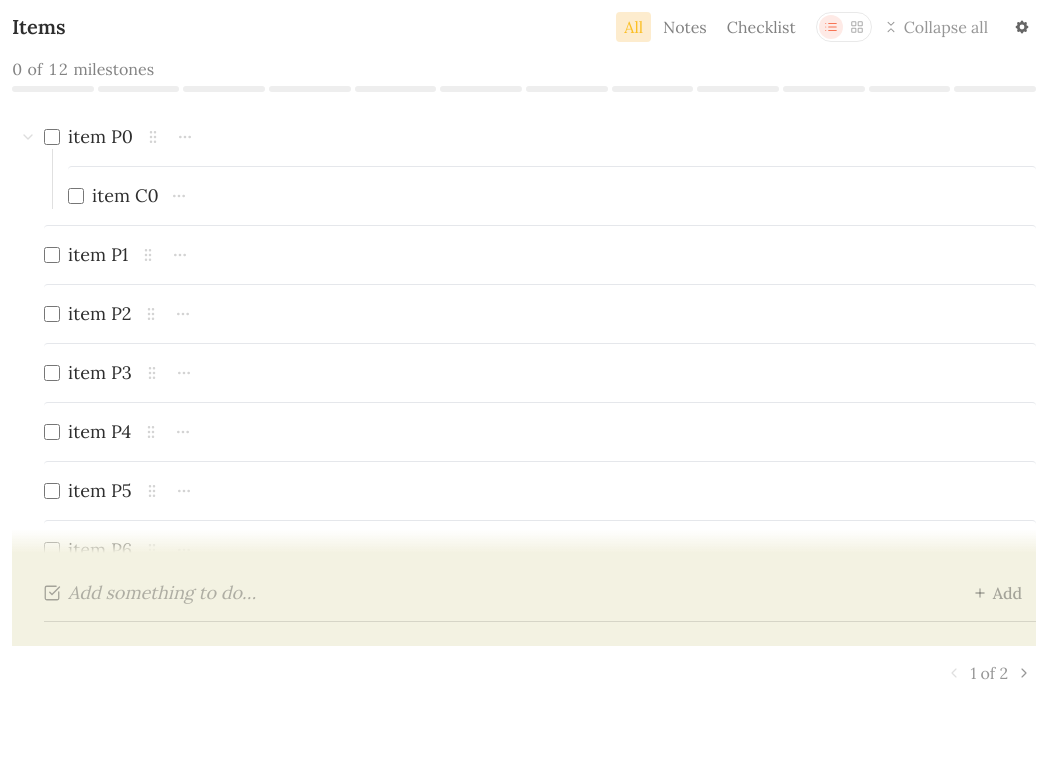
Todo collapse all across pages (FS-0008 R23–R24) › should label the toggle from the current page, not the whole list
expect the text "item P0" is shown: met, box [68,124,133,150]
What coordinates should you click on to do the following:
click the button named "Collapse item P0"
I would click on:
 (28, 137)
Its box is [12,121,44,153].
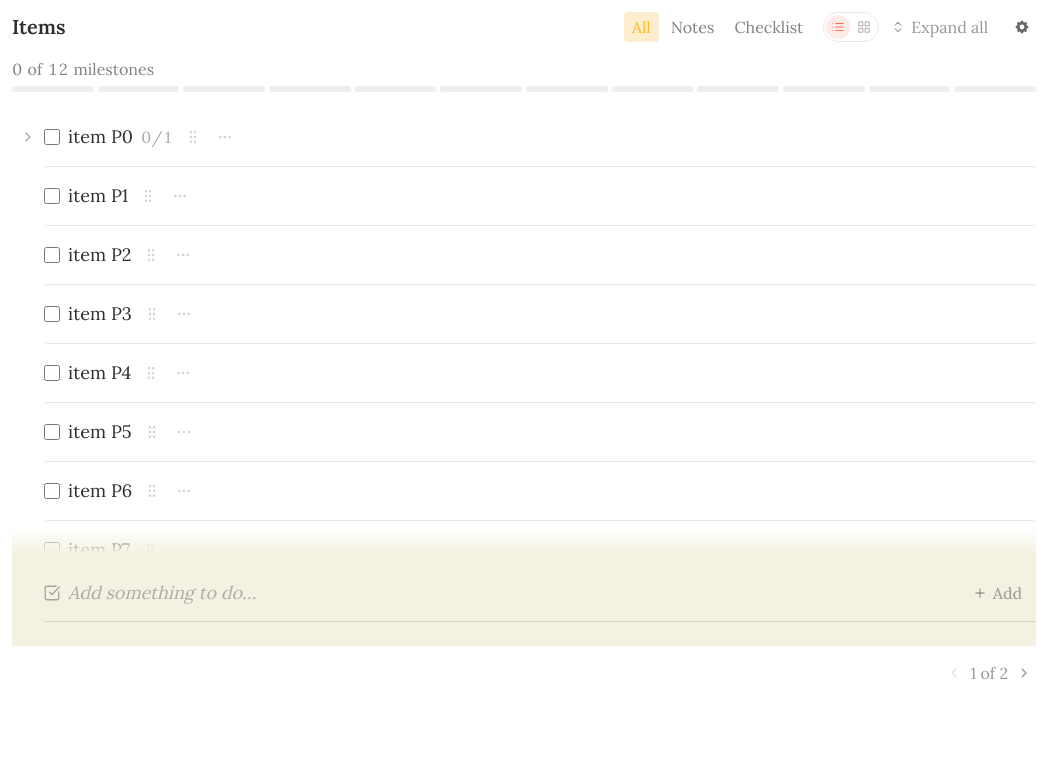
expect the button "Expand all" is shown: met, box [891,16,988,38]
What coordinates should you click on to do the following:
click the button named "Next page"
I would click on:
 (1024, 673)
Its box is [1016,665,1032,681].
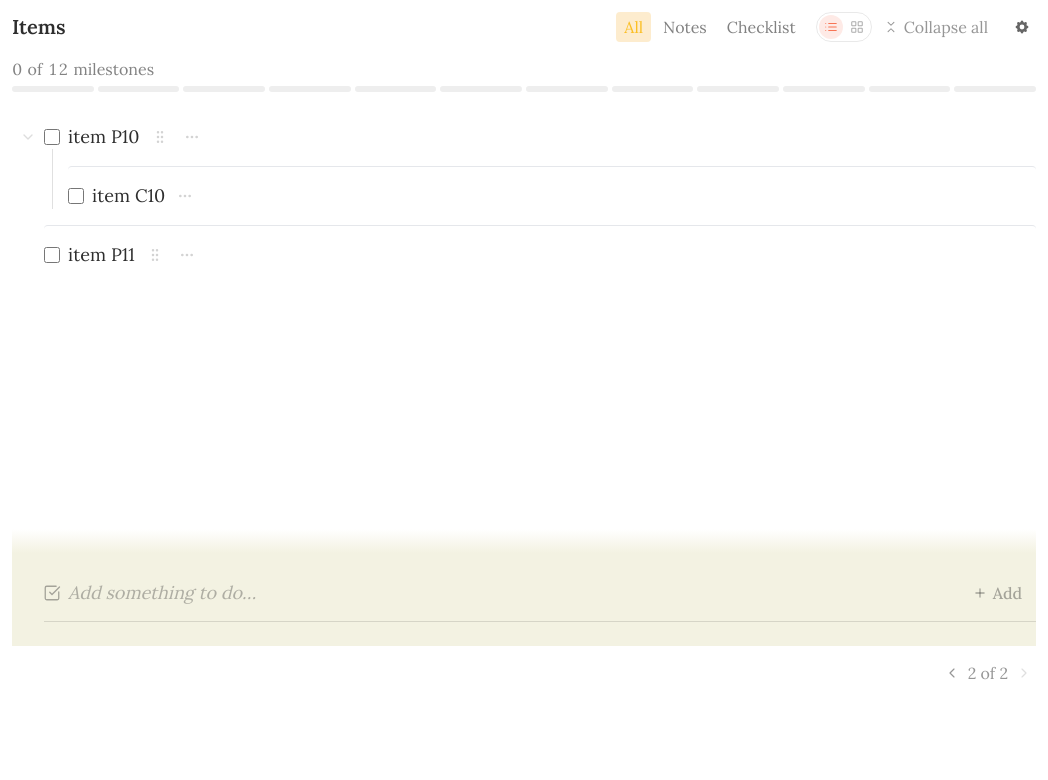
expect the text "item C10" is shown: met, box [92,183,165,209]
expect the button "Collapse all" is shown: met, box [884,16,988,38]
